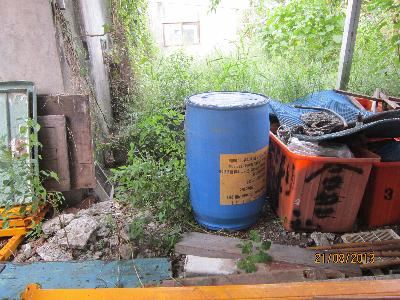box: (268, 120, 380, 233)
bucket: (180, 89, 273, 234)
